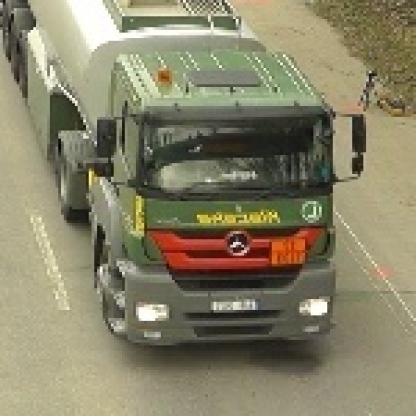truck: (1, 1, 367, 346)
